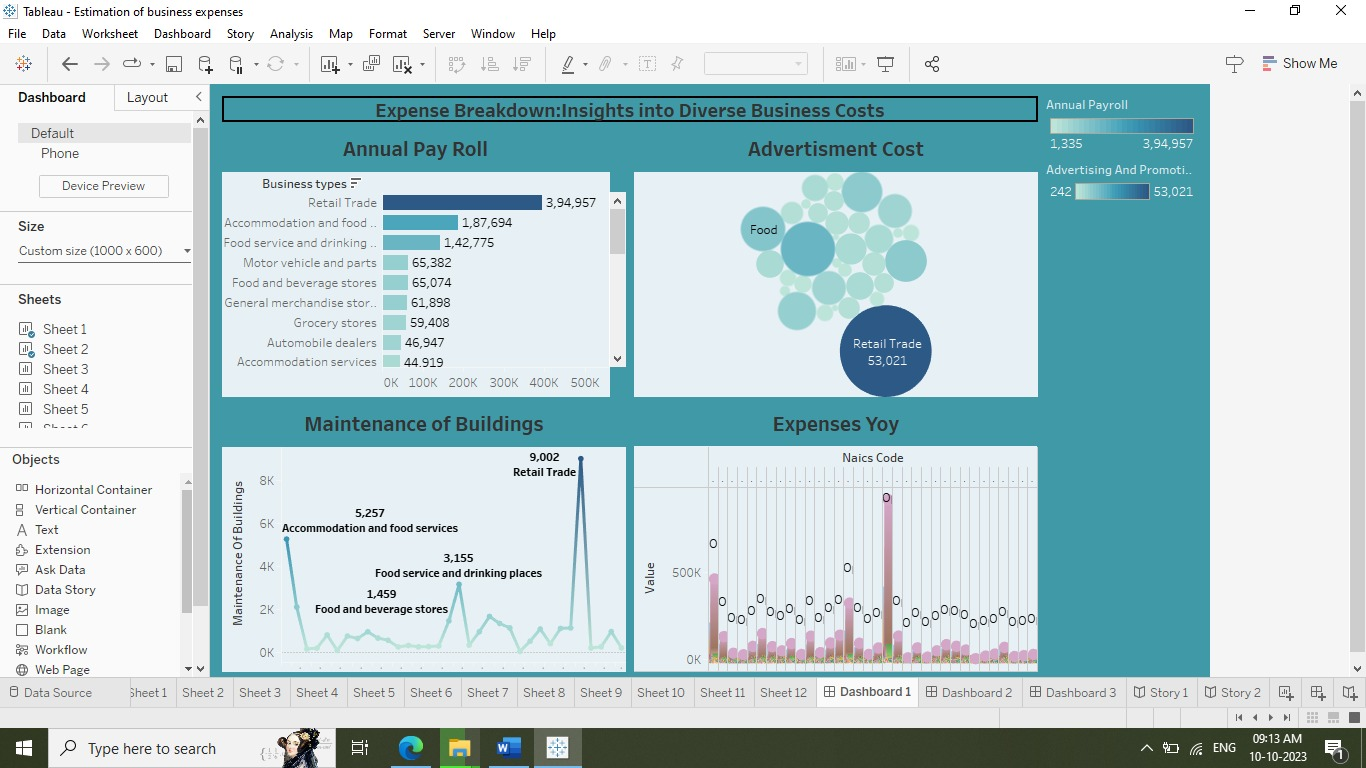

The page's visual inventory and layout, read from the dashboard file:
{"tool":"tableau","page":{"name":"Dashboard 1","canvas":[1000,800],"ordinal":0},"visuals":[{"type":"title","box":[8,8,824,34]},{"type":"legend","title":"Sheet 1","param":"[federated.1aluf8y0ho0fgg1bqzy6j0fe9r3e].[sum:annual_payroll:qk]","box":[832,8,160,65]},{"type":"worksheet","title":"Sheet 1","mark":"Automatic","rows":["Business_types"],"cols":["annual_payroll"],"box":[8,42,412,375]},{"type":"worksheet","title":"Sheet 2","mark":"Circle","box":[420,42,412,375]},{"type":"legend","title":"Sheet 2","param":"[federated.1aluf8y0ho0fgg1bqzy6j0fe9r3e].[sum:advertising_and_promotional_servic","box":[832,73,160,65]},{"type":"worksheet","title":"Sheet 8","mark":"Line","rows":["maintenance_of_buildings_offices"],"cols":["Business_types"],"box":[8,417,412,375]},{"type":"worksheet","title":"Sheet 6","mark":"Line","cols":["naics_code"],"box":[420,417,412,375]}]}

Visuals, with their boxes on the page's 1000x800 design canvas (x1, y1, x2, y2). These are canvas units, not pixel positions in the 1366x768 screenshot, which may show the page scaled, cropped or inside an application window:
title: bbox(8, 8, 832, 42)
"Sheet 1" legend: bbox(832, 8, 992, 73)
"Sheet 1" worksheet: bbox(8, 42, 420, 417)
"Sheet 2" worksheet (Circle marks): bbox(420, 42, 832, 417)
"Sheet 2" legend: bbox(832, 73, 992, 138)
"Sheet 8" worksheet (Line marks): bbox(8, 417, 420, 792)
"Sheet 6" worksheet (Line marks): bbox(420, 417, 832, 792)
